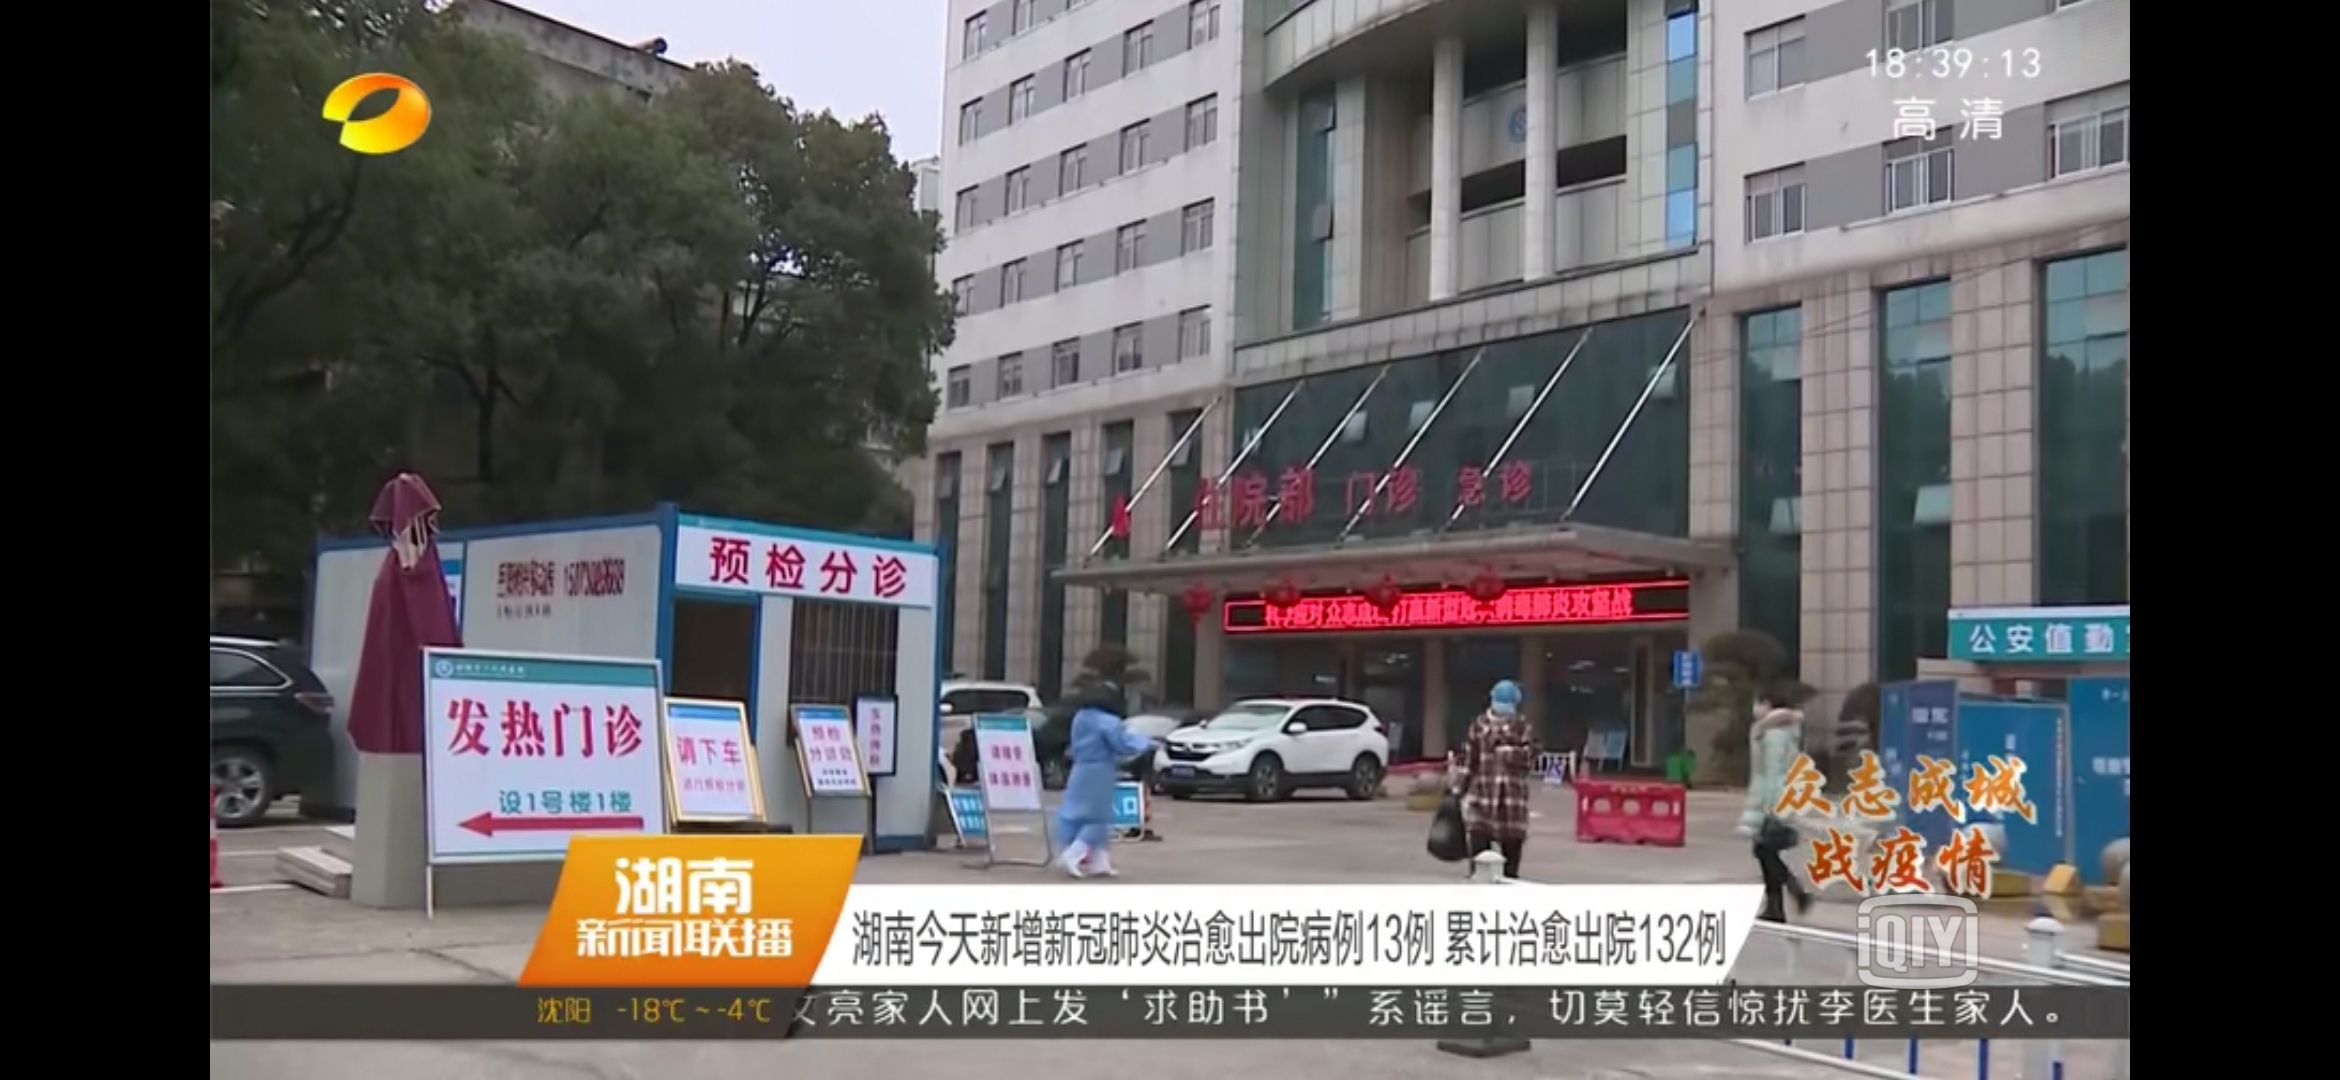correctlyWear: (1751, 689, 1782, 720), (1488, 688, 1521, 718)
